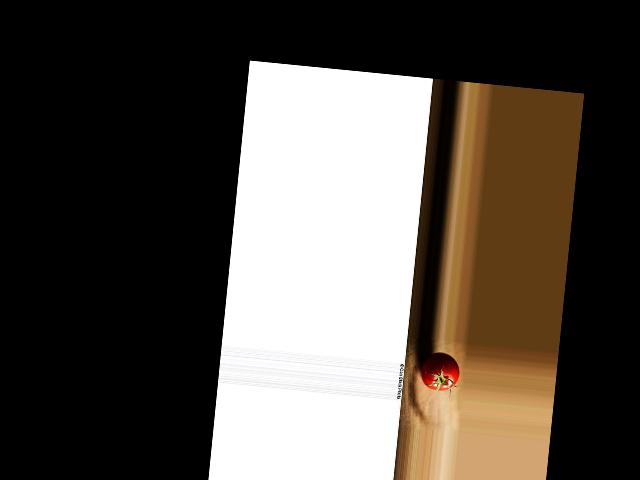tomato: (419, 351, 460, 393)
